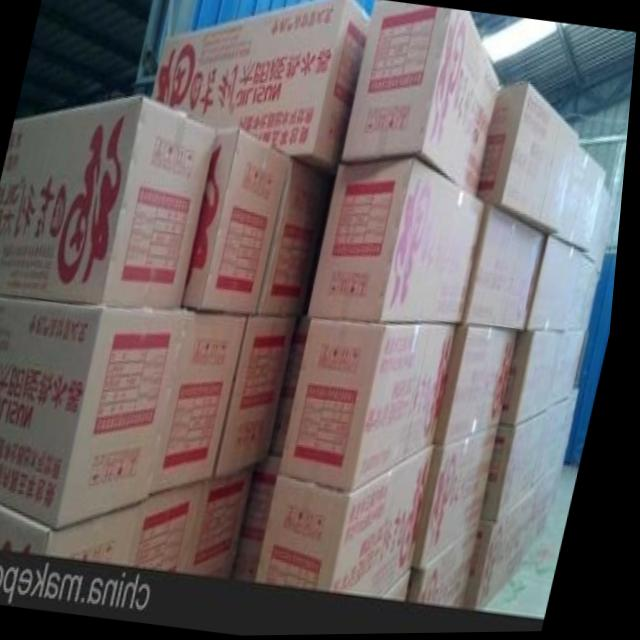box: (0, 96, 216, 306), (0, 295, 193, 529), (150, 0, 370, 174), (343, 4, 501, 201), (287, 319, 462, 494), (314, 160, 489, 325), (266, 442, 444, 597), (186, 125, 294, 316), (156, 311, 253, 496), (480, 84, 581, 237), (475, 461, 573, 612), (418, 424, 509, 573), (223, 317, 304, 478), (260, 159, 341, 316), (489, 393, 585, 524), (468, 202, 552, 334), (0, 496, 158, 566), (445, 327, 525, 450), (508, 331, 594, 430), (200, 471, 265, 583), (414, 522, 489, 615), (145, 480, 218, 575), (533, 238, 605, 331), (241, 457, 290, 588), (558, 144, 609, 255), (589, 185, 619, 274), (389, 569, 420, 603)
